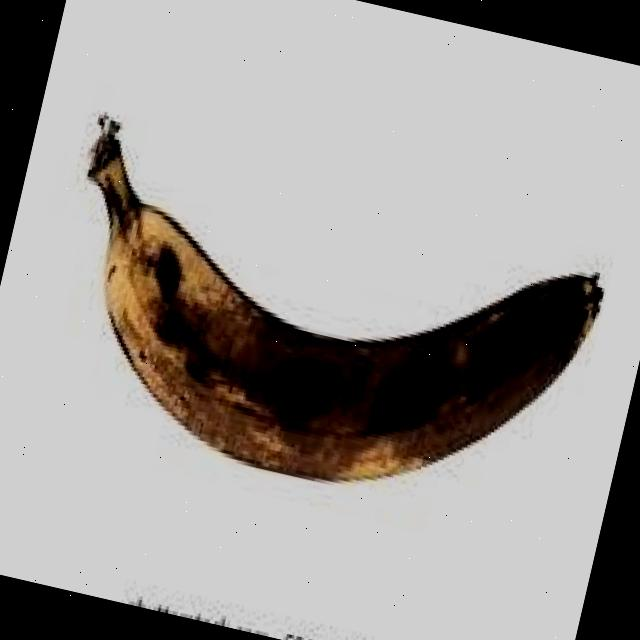Rotten: (0, 76, 640, 563)
